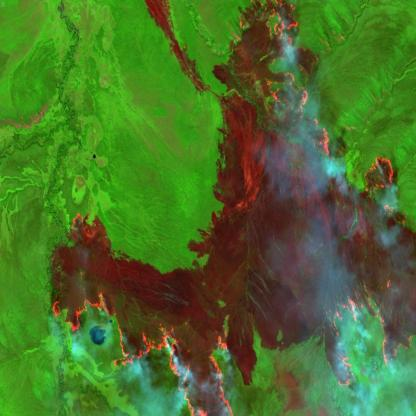fire: (47, 0, 416, 416)
